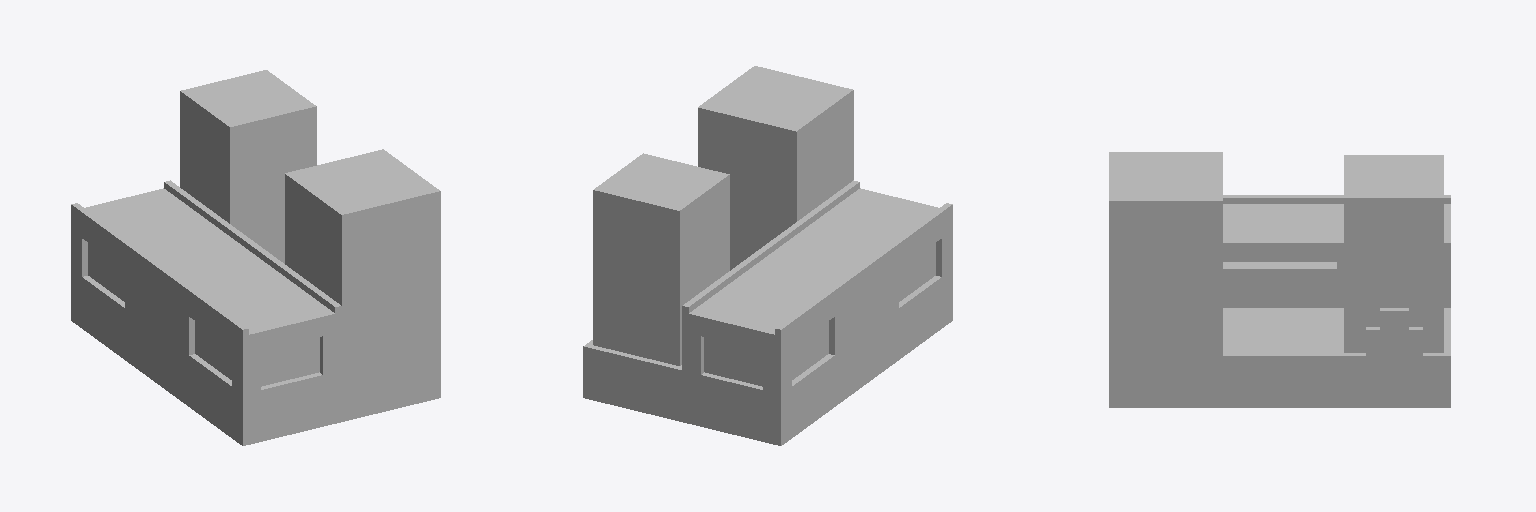
File: hydrojet_mirror.obj
3 views of the same model, side by side, from view 1: azimuth 30°, elevation 25°; view 2: azimuth 150°, elevation 25°; view 3: azimuth 270°, elevation 25° (orthographic).
Visible parts, largest first — view 1: Base_Cube.003, Conveyer_Cube.006; view 2: Base_Cube.003, Conveyer_Cube.006; view 3: Base_Cube.003, Conveyer_Cube.006.
Part boxes in pixels (x1,y1,x2,y2): Base_Cube.003: (71,70,440,445); Conveyer_Cube.006: (71,180,341,342); Base_Cube.003: (583,66,952,445); Conveyer_Cube.006: (682,180,952,342); Base_Cube.003: (1109,152,1450,407); Conveyer_Cube.006: (1223,195,1450,255).
Bounding box in the file's own units: 2 × 2 × 3.